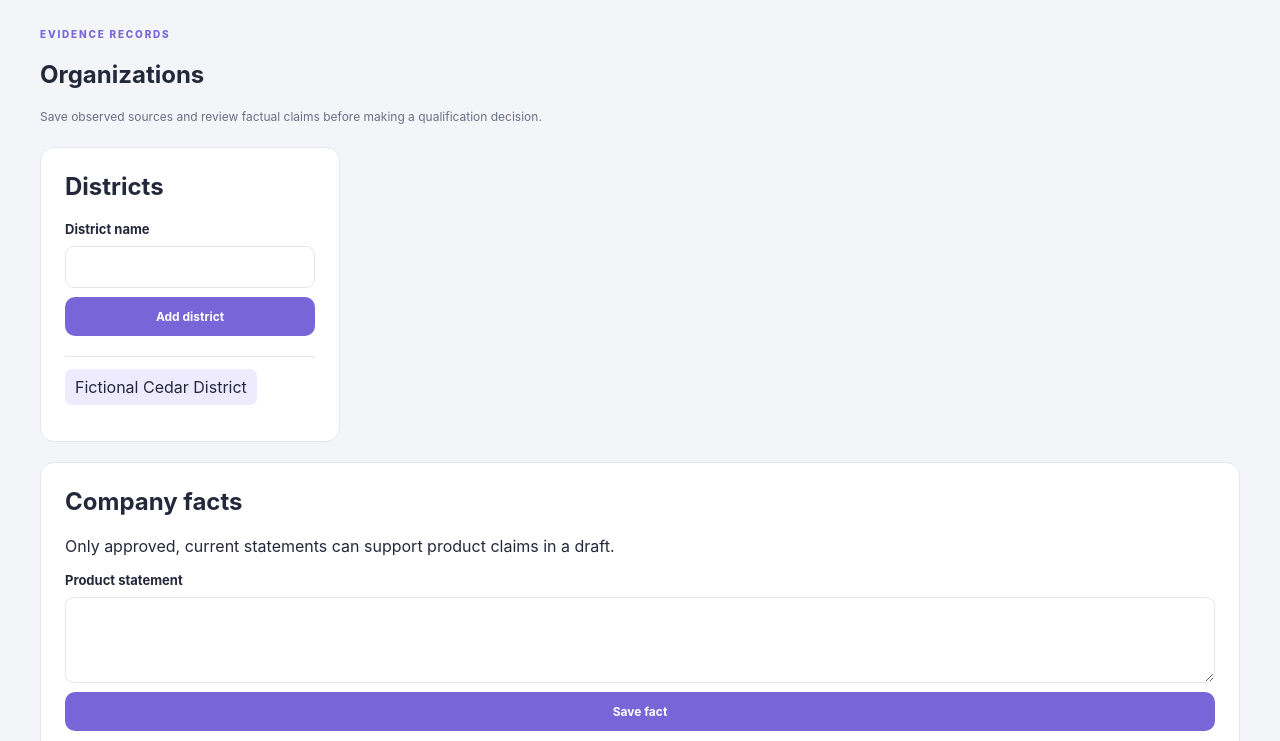
Test: shows unknown outcome without a resend control
Click the button "Fictional Cedar District". click: point(161, 387)
box: [65,369,257,405]
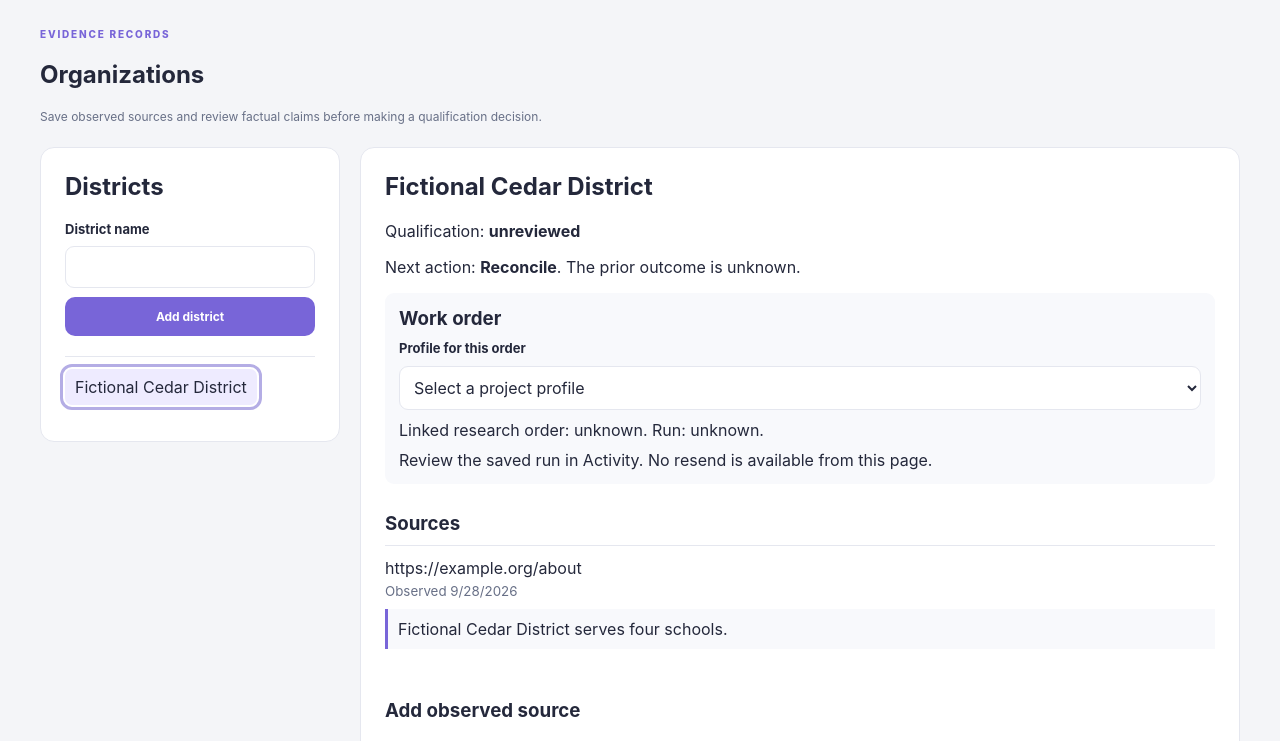
Check: the text "No resend is available" is shown, box [399,450,932,470]
